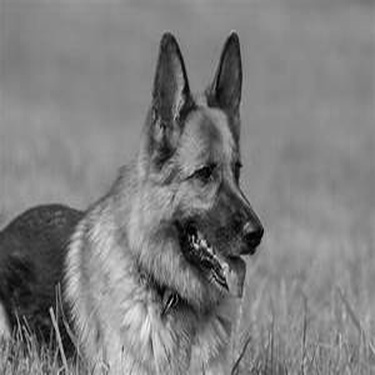dog: (1, 24, 271, 372)
